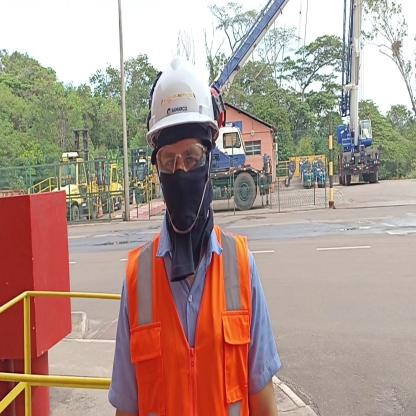Balaclava: (154, 129, 218, 255)
Capacete: (147, 55, 215, 127)
colete: (127, 245, 252, 416)
